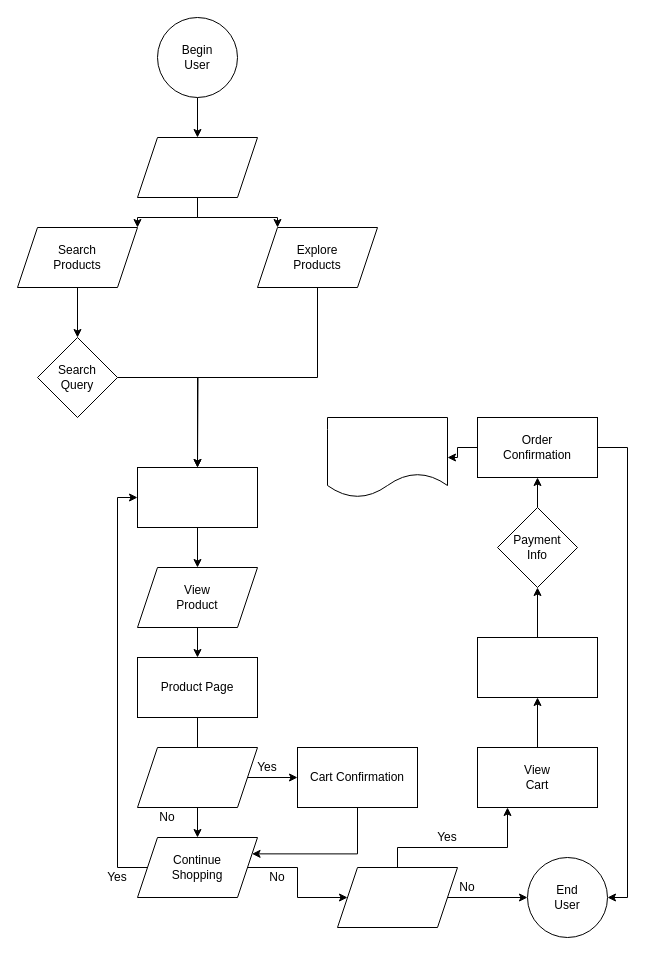
Image size: 653x955. Some labels were removed from this diagram. The shapes that lost their labels are listed below. From the top down, each one's centre as x and y in pixels, then its label:
point 197,167: Enters Website
point 387,457: Send Email
point 197,497: Product Views
point 537,667: View Payment
point 197,777: Add to Card
point 397,897: Checkout
